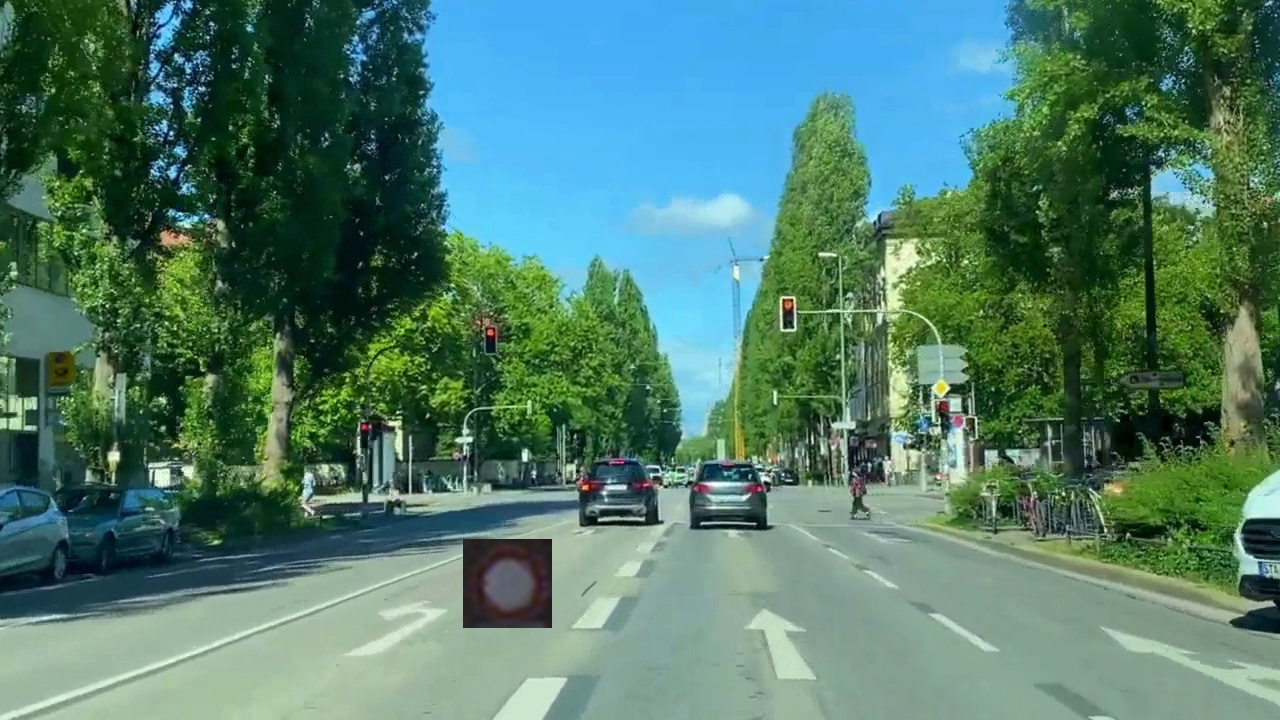No vehicles: (463, 539, 552, 628)
